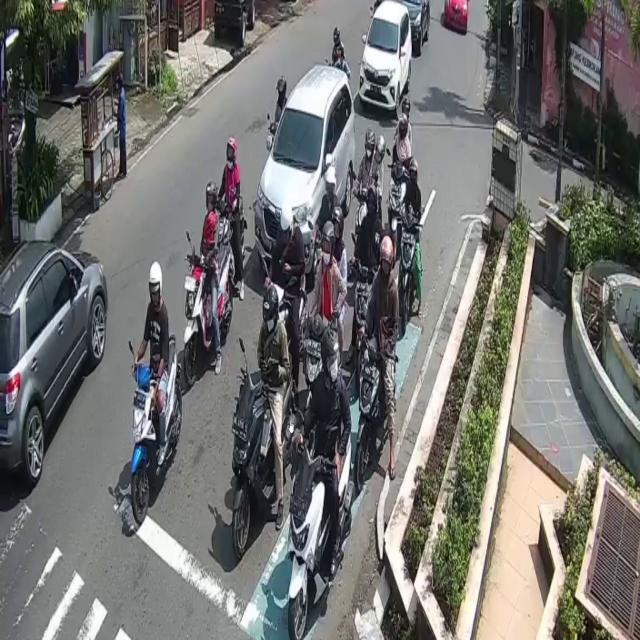bus: (289, 411, 354, 640), (233, 360, 295, 559), (130, 332, 182, 527), (181, 240, 231, 385), (359, 343, 399, 489), (397, 212, 418, 333)
motorcycle: (0, 238, 108, 483), (255, 63, 356, 273), (358, 1, 412, 118), (398, 0, 429, 52), (445, 0, 469, 35)
